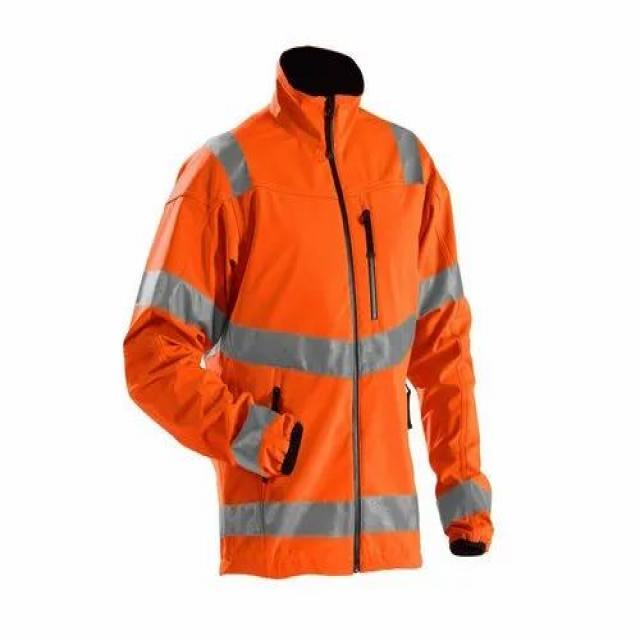Reflective-Jacket: (120, 82, 479, 595)
